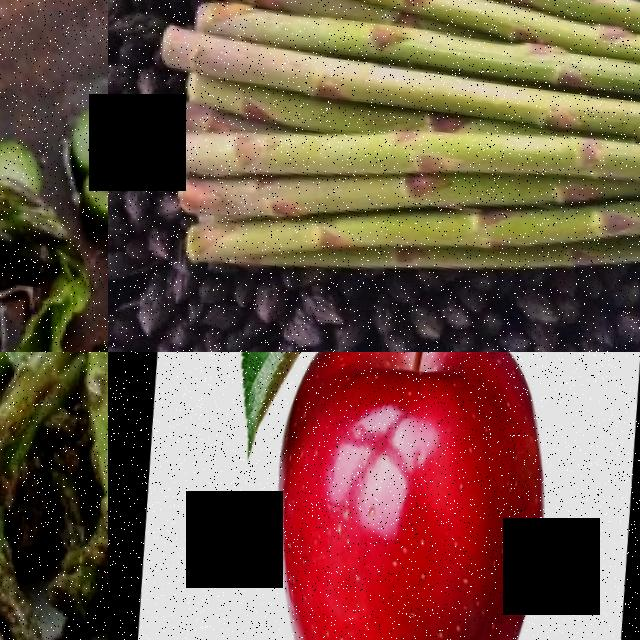apple: (236, 352, 572, 640)
asparagus: (140, 18, 640, 139), (124, 85, 640, 196), (180, 0, 640, 93), (163, 130, 588, 224), (170, 185, 575, 276), (182, 0, 640, 41), (0, 352, 52, 567), (54, 352, 108, 519)
